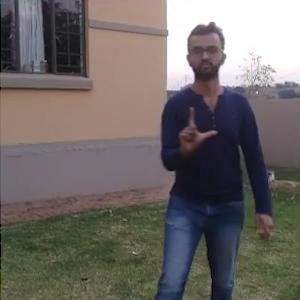land_hand: (173, 104, 221, 153)
